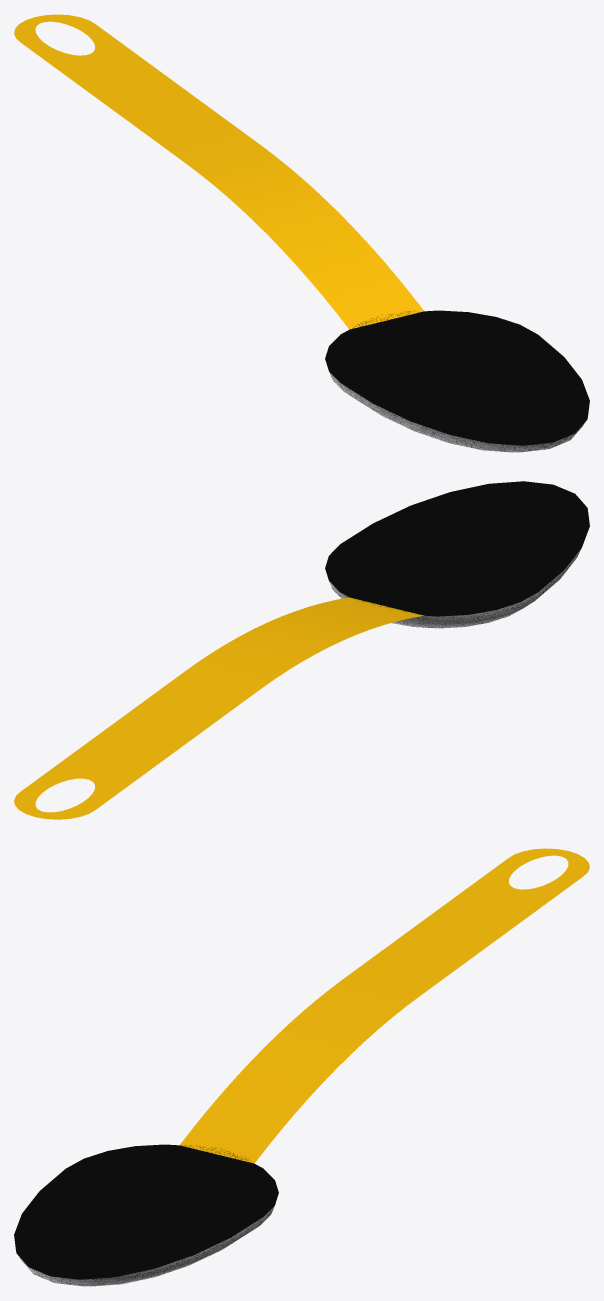
The model's file is spoon_05_origin_1.dae.
3 renders of one model, top to bottom at view 1: azimuth 30°, elevation 25°; view 2: azimuth 150°, elevation 25°; view 3: azimuth 330°, elevation 25°, orthographic.
Visible parts, largest first — view 1: Untitled (×3); view 2: Untitled (×3); view 3: Untitled (×3).
Part boxes in pixels (x1,y1,x2,y2): Untitled (×3): (14,14,589,452); Untitled (×3): (14,481,589,819); Untitled (×3): (14,848,589,1286).
Size of the model in its own units: 1.99 by 9.01 by 0.7985.
